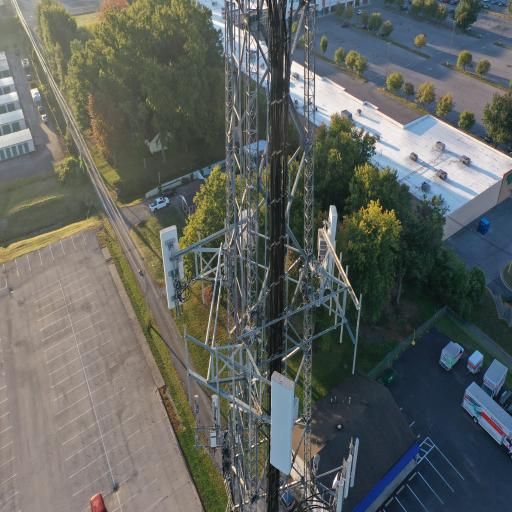supporting_tower: (153, 0, 372, 512)
